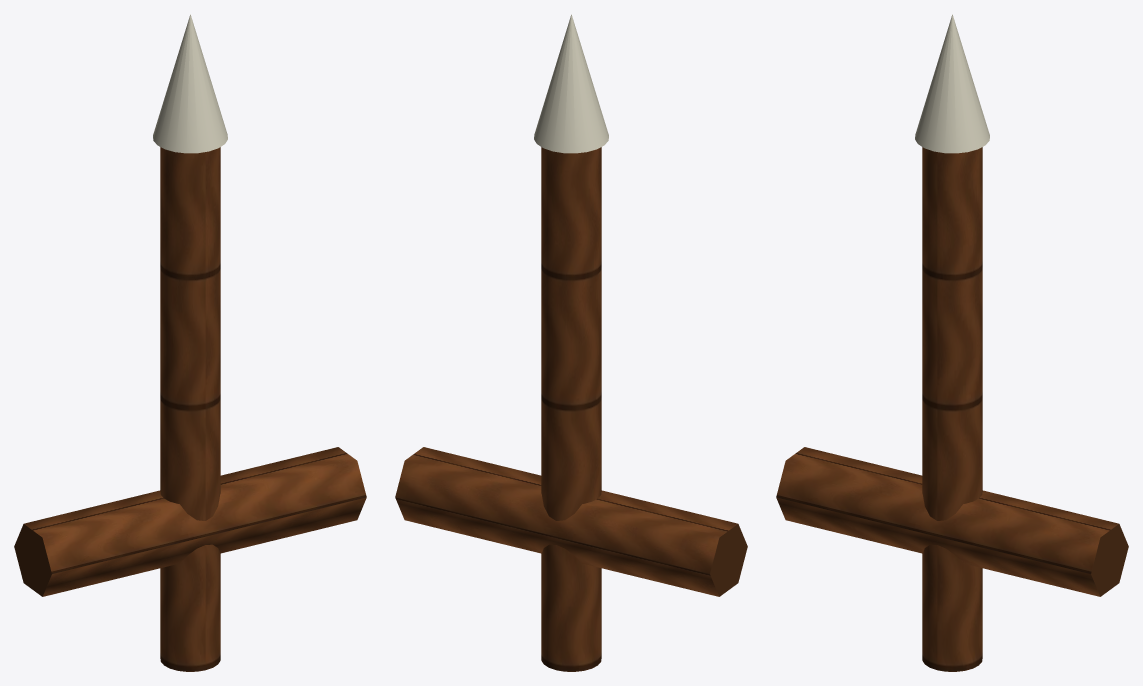
The model's file is primitive-crafting-workshop-stone-auger-2127d169__21541.glb.
The picture shows the model from 3 angles, left to right: view 1: azimuth 30°, elevation 25°; view 2: azimuth 150°, elevation 25°; view 3: azimuth 330°, elevation 25°; orthographic projection.
Visible parts, largest first — view 1: stone-auger; view 2: stone-auger; view 3: stone-auger.
Boxes of the visible parts, bbox=[...] form: stone-auger: bbox=[14, 14, 366, 671]; stone-auger: bbox=[395, 14, 747, 671]; stone-auger: bbox=[776, 14, 1128, 671].
Bounding box in the file's own units: 0.24 × 0.47 × 0.05.
2 materials, 1 textured.
